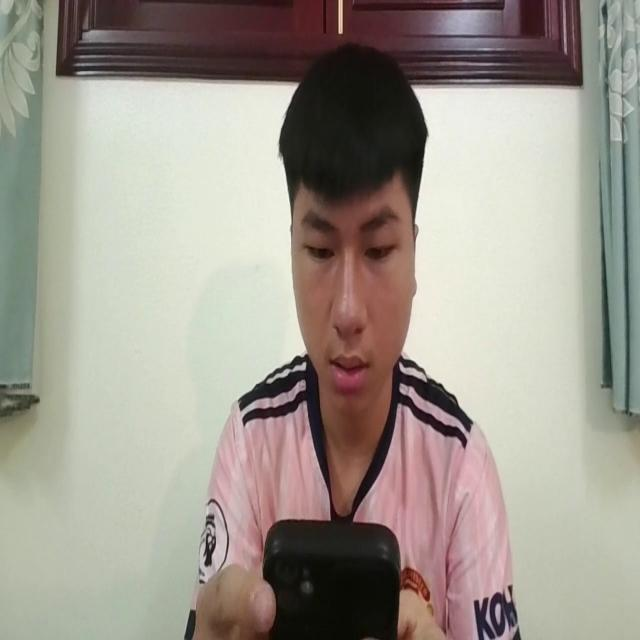phone: (259, 508, 403, 640)
student: (179, 37, 518, 640)
